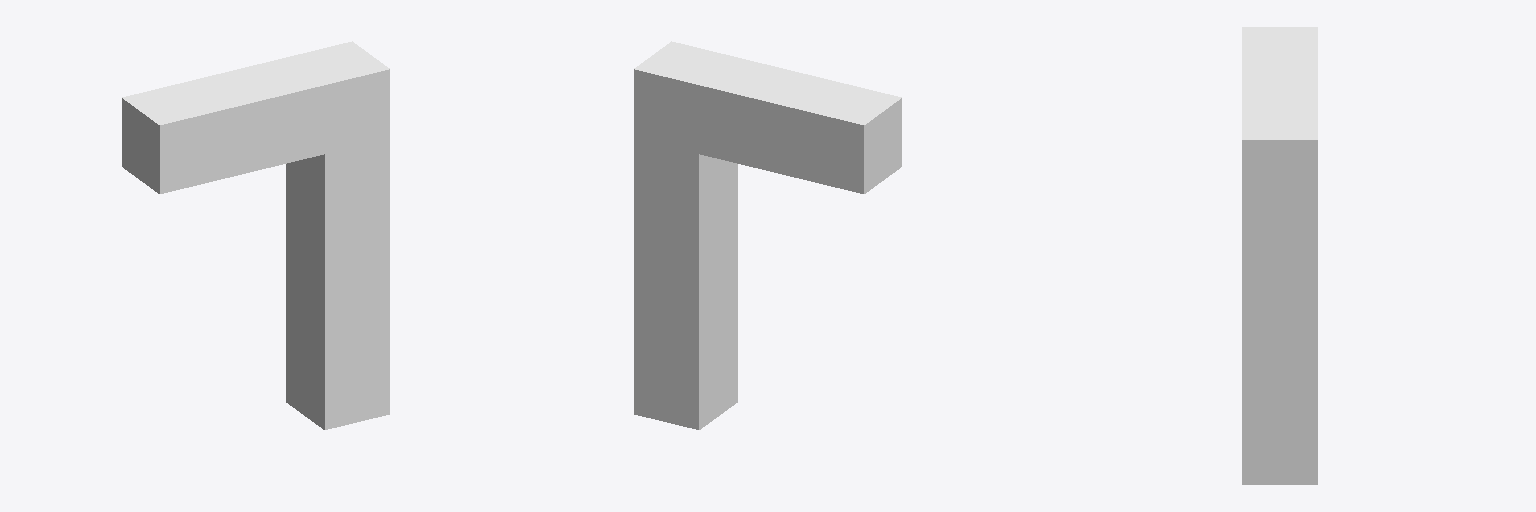
3 renders of one model, left to right at view 1: azimuth 30°, elevation 25°; view 2: azimuth 150°, elevation 25°; view 3: azimuth 270°, elevation 25°, orthographic.
Visible parts, largest first — view 1: Matrix_9; view 2: Matrix_9; view 3: Matrix_9.
Boxes of the visible parts, x1=… form: Matrix_9: x1=122, y1=41, x2=389, y2=429; Matrix_9: x1=634, y1=41, x2=901, y2=429; Matrix_9: x1=1242, y1=27, x2=1317, y2=484.
Bounding box in the file's own units: 7 × 10 × 2.